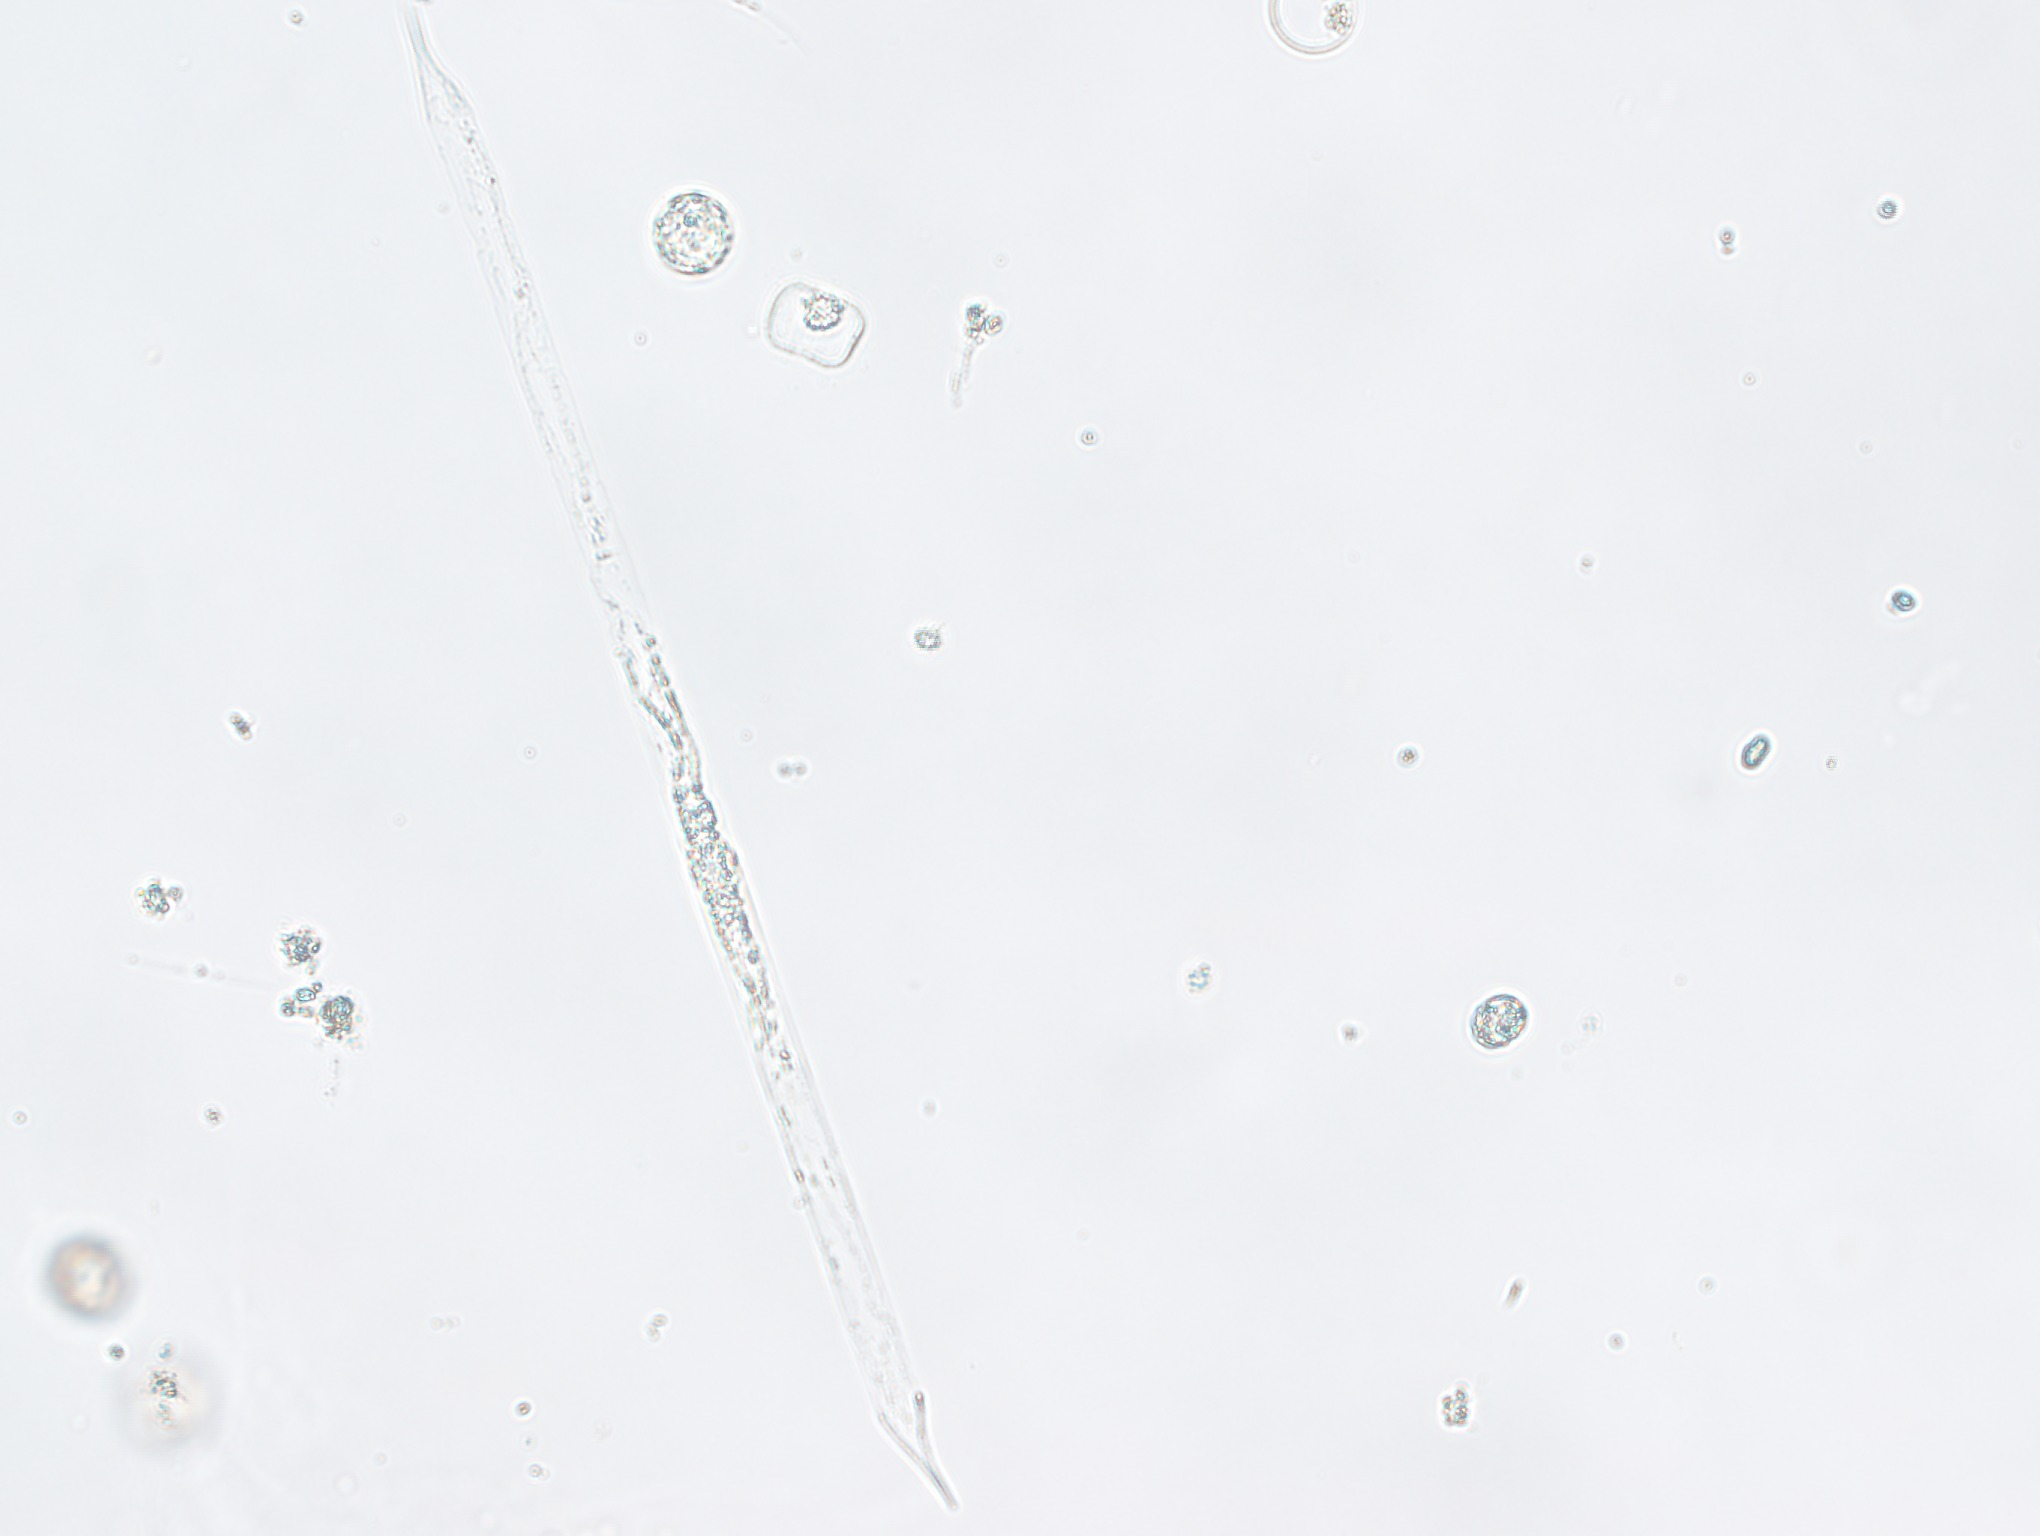rhizosolenia: (374, 6, 982, 1536)
